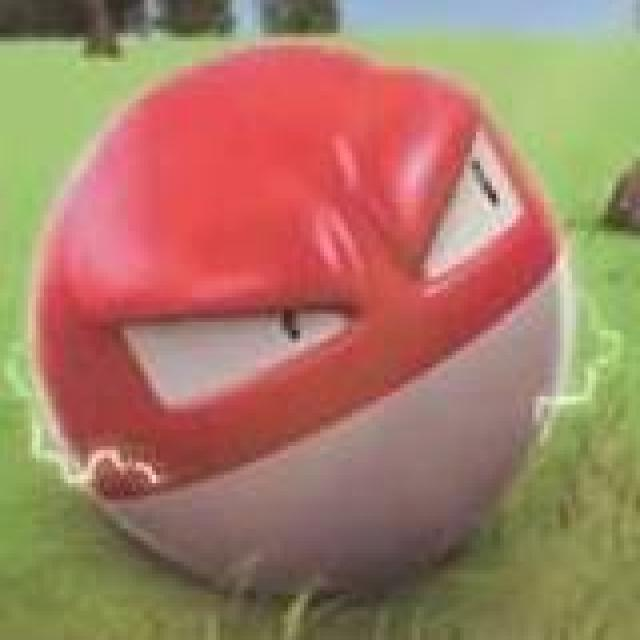Voltorb: (31, 29, 586, 604)
